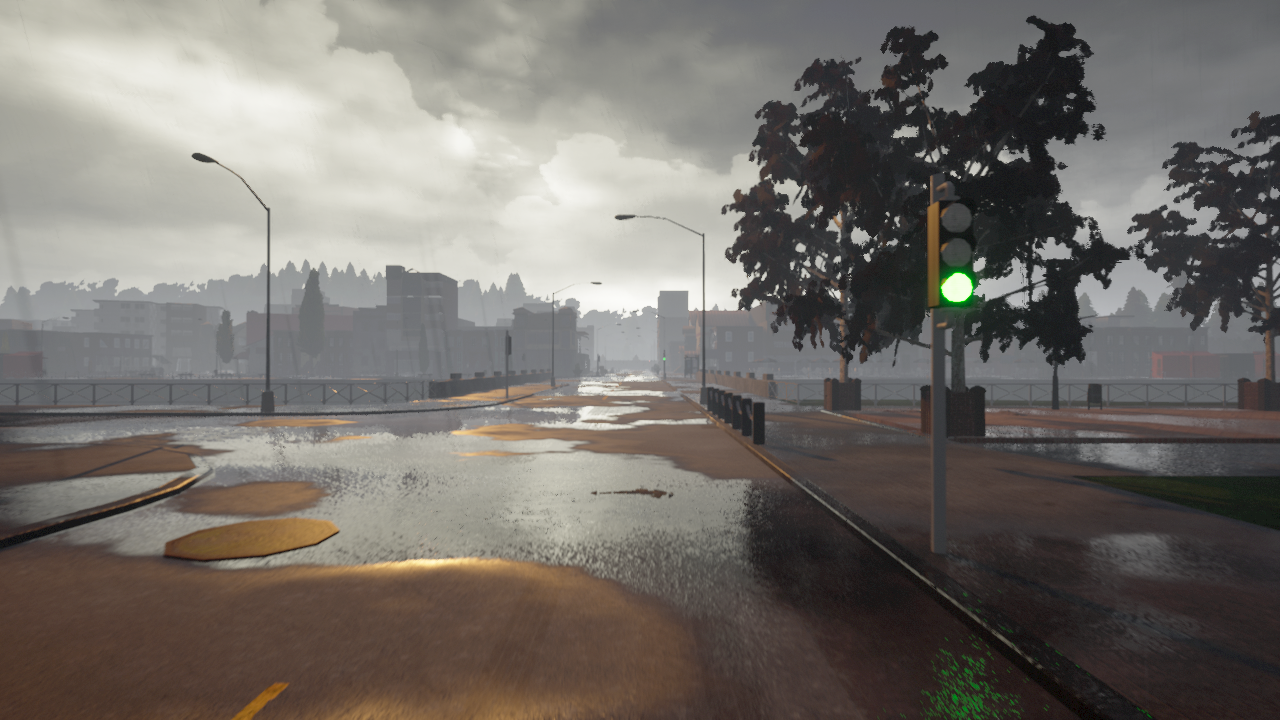green: (923, 197, 977, 313)
